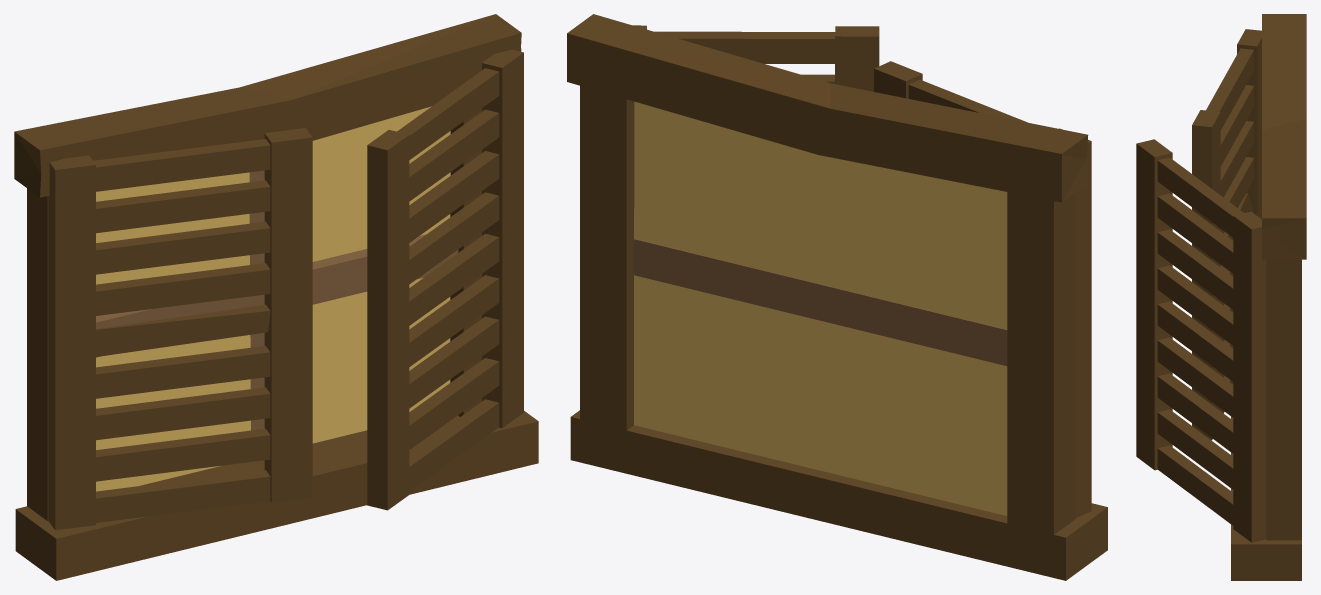
File: Window_02.fbx
The picture shows the model from 3 angles, left to right: view 1: azimuth 30°, elevation 25°; view 2: azimuth 150°, elevation 25°; view 3: azimuth 270°, elevation 25°; orthographic projection. The views are drawn at different scales.
Parts seen in each view (by area): view 1: Window_02; view 2: Window_02; view 3: Window_02.
Boxes of the visible parts, x1,y1,x2,y2 form: Window_02: [14, 14, 538, 580]; Window_02: [567, 14, 1107, 580]; Window_02: [1136, 14, 1306, 580].
Size of the model in its own units: 1.13 by 0.9337 by 0.3966.
